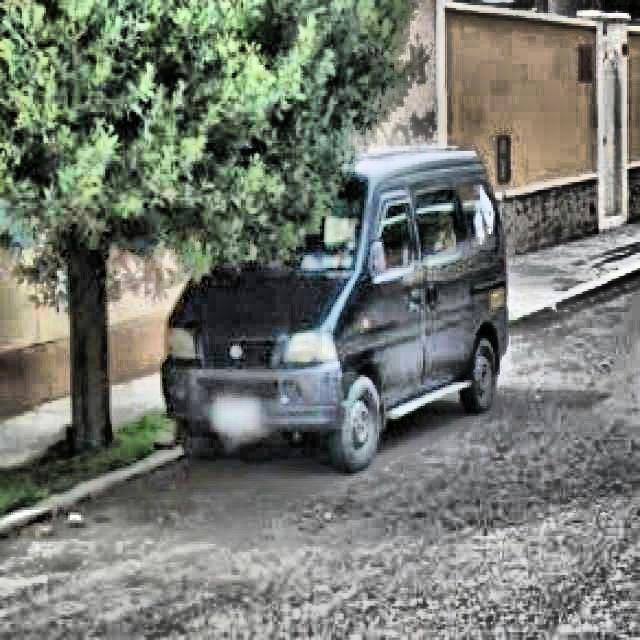carro: (165, 151, 506, 434)
